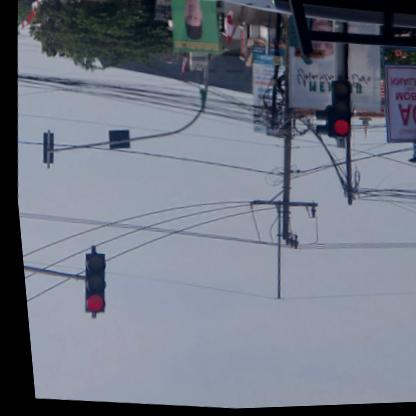red: (74, 251, 106, 314), (324, 80, 354, 143)
